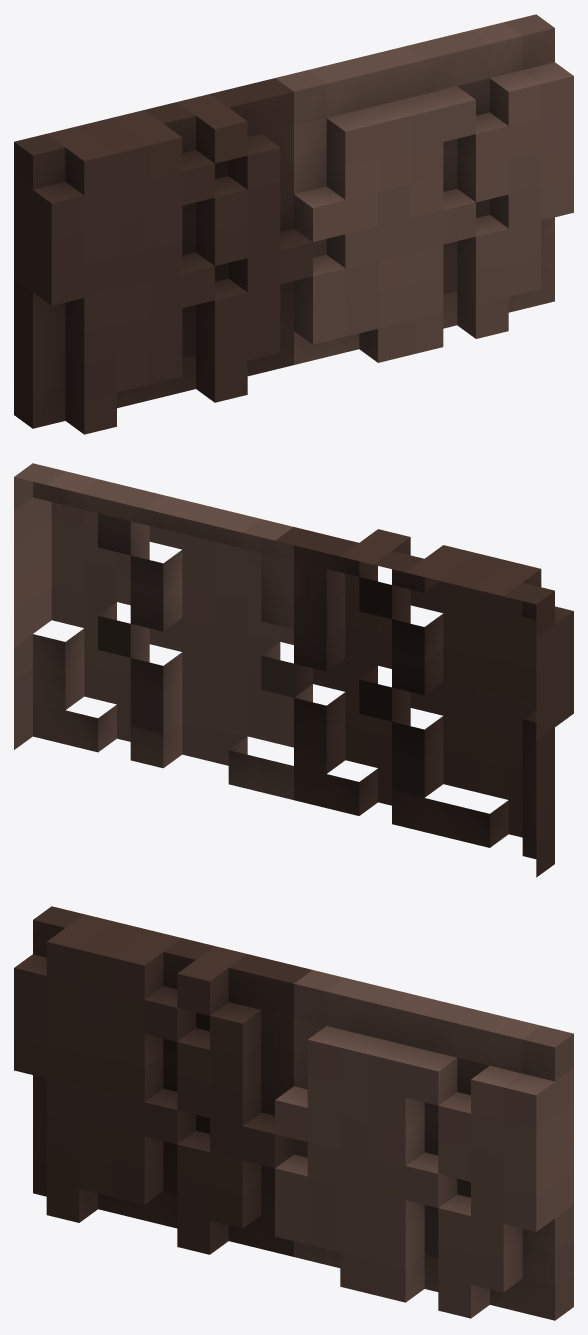
File: ashlar_plain_0.glb
3 renders of one model, top to bottom at view 1: azimuth 30°, elevation 25°; view 2: azimuth 150°, elevation 25°; view 3: azimuth 330°, elevation 25°, orthographic.
Parts seen in each view (by area): view 1: ashlar_plain_0; view 2: ashlar_plain_0; view 3: ashlar_plain_0.
Part boxes in pixels (x1=…): ashlar_plain_0: x1=14, y1=14, x2=573, y2=434; ashlar_plain_0: x1=14, y1=463, x2=573, y2=877; ashlar_plain_0: x1=14, y1=906, x2=573, y2=1320.
Size of the model in its own units: 1 by 0.5 by 0.125.
